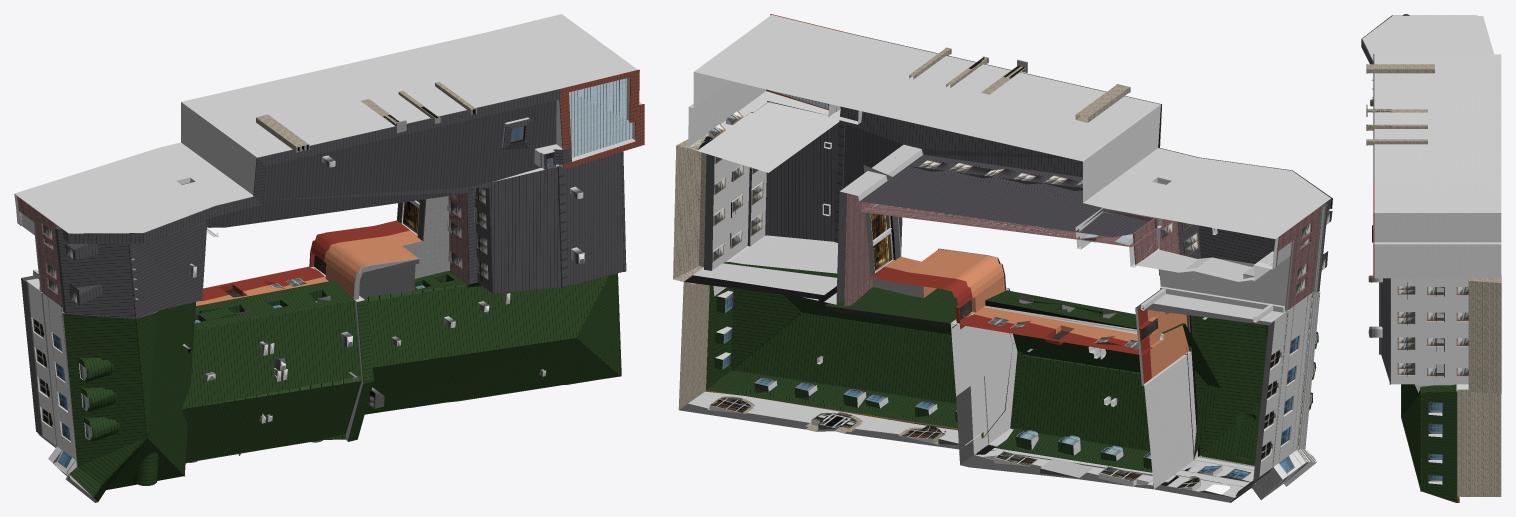
File: Aia_10-origo.obj
The picture shows the model from 3 angles, left to right: view 1: azimuth 30°, elevation 25°; view 2: azimuth 150°, elevation 25°; view 3: azimuth 270°, elevation 25°; orthographic projection. The views are drawn at different scales.
Visible parts, largest first — view 1: Aia_10; view 2: Aia_10; view 3: Aia_10.
Boxes of the visible parts, <box> form: Aia_10: <box>14,14,644,502</box>; Aia_10: <box>673,14,1332,502</box>; Aia_10: <box>1361,14,1501,502</box>.
Size of the model in its own units: 60.19 by 34.5 by 15.06.
